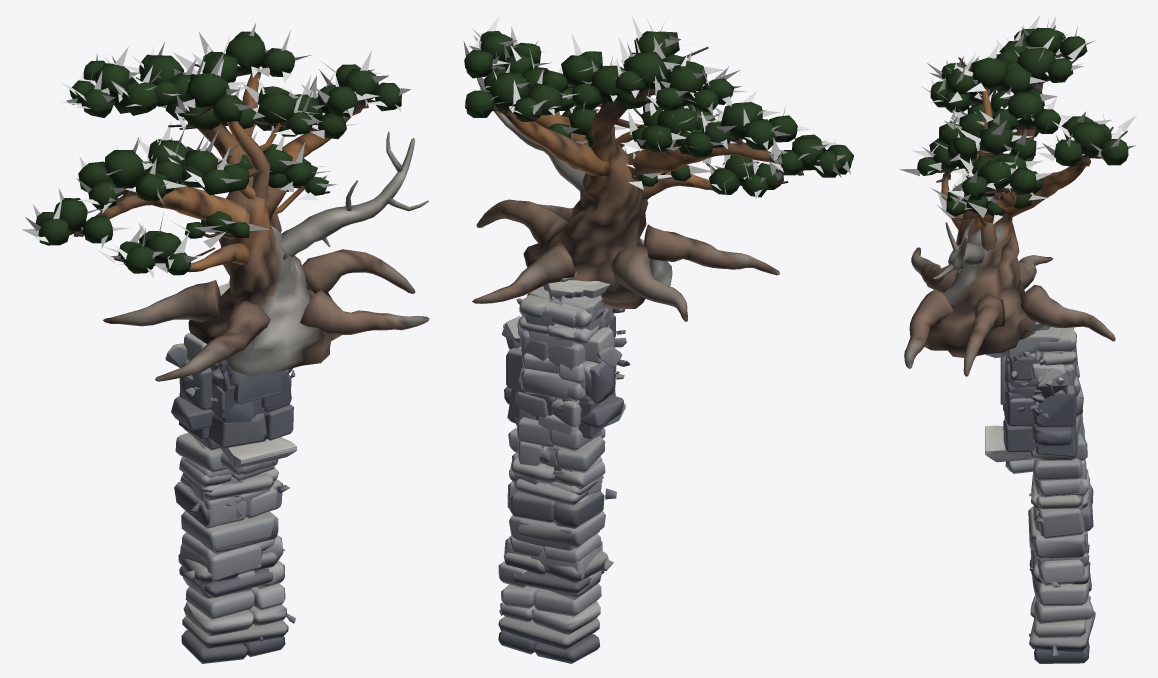
File: mountain-kit.glb
3 renders of one model, left to right at view 1: azimuth 30°, elevation 25°; view 2: azimuth 150°, elevation 25°; view 3: azimuth 270°, elevation 25°, orthographic. The views are drawn at different scales.
Parts seen in each view (by area): view 1: tall, rose-3, martall-a, rose-2, tall-skott, rose-1, hylla-4, martall-b, hylla-7, martall-a-skott, la-3, la-2 (+3 smaller); view 2: tall, rose-1, rose-3, rose-2, tall-skott, hylla-7, martall-a, martall-b, hylla-5, martall-a-skott, martall-b-skott; view 3: tall, rose-3, martall-a, tall-skott, hylla-7, rose-2, rose-1, martall-a-skott, hylla-4, martall-b, la-3, hylla-5 (+2 smaller).
Part boxes in pixels (x1=…): tall: x1=35, y1=31, x2=429, y2=381; rose-3: x1=179, y1=283, x2=295, y2=663; martall-a: x1=155, y1=73, x2=330, y2=213; rose-2: x1=178, y1=283, x2=295, y2=597; tall-skott: x1=22, y1=23, x2=410, y2=278; rose-1: x1=174, y1=428, x2=296, y2=524; hylla-4: x1=208, y1=361, x2=295, y2=448; martall-b: x1=144, y1=144, x2=312, y2=238; hylla-7: x1=171, y1=333, x2=291, y2=430; martall-a-skott: x1=131, y1=51, x2=336, y2=200; la-3: x1=226, y1=285, x2=282, y2=401; la-2: x1=165, y1=343, x2=281, y2=403; tall: x1=464, y1=31, x2=853, y2=321; rose-1: x1=510, y1=283, x2=625, y2=528; rose-3: x1=498, y1=271, x2=603, y2=663; rose-2: x1=503, y1=281, x2=622, y2=595; tall-skott: x1=463, y1=15, x2=853, y2=199; hylla-7: x1=504, y1=282, x2=624, y2=428; martall-a: x1=542, y1=31, x2=714, y2=136; martall-b: x1=547, y1=103, x2=702, y2=188; hylla-5: x1=507, y1=284, x2=624, y2=439; martall-a-skott: x1=510, y1=15, x2=721, y2=137; martall-b-skott: x1=562, y1=103, x2=736, y2=189; tall: x1=904, y1=27, x2=1128, y2=376; rose-3: x1=1029, y1=320, x2=1095, y2=663; martall-a: x1=939, y1=50, x2=1036, y2=227; tall-skott: x1=899, y1=15, x2=1136, y2=200; hylla-7: x1=1007, y1=322, x2=1076, y2=446; rose-2: x1=986, y1=346, x2=1091, y2=593; rose-1: x1=985, y1=327, x2=1093, y2=531; martall-a-skott: x1=937, y1=43, x2=1054, y2=224; hylla-4: x1=1002, y1=351, x2=1049, y2=452; martall-b: x1=946, y1=129, x2=1031, y2=250; la-3: x1=987, y1=353, x2=1070, y2=403; hylla-5: x1=1029, y1=330, x2=1077, y2=457.
Size of the model in its own units: 11.41 by 17.28 by 6.68.
